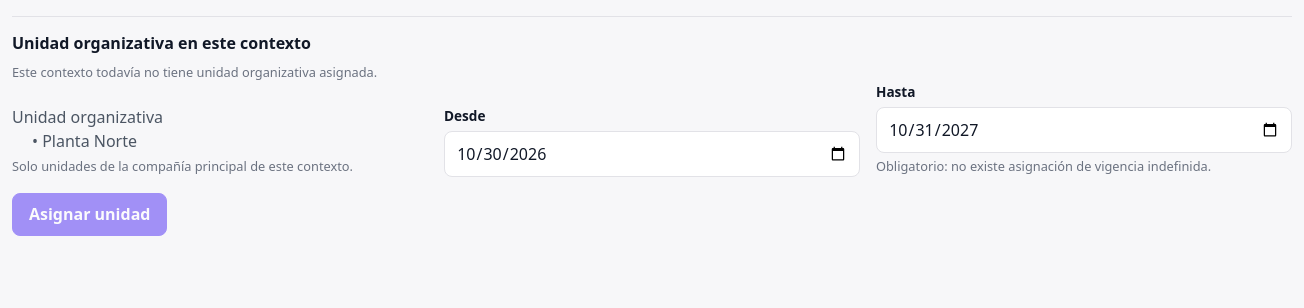
Test: AsignacionUnidadOrganizativa › traduce el rechazo por contención temporal
Click the list item "• Planta Norte": x=84, y=141 [32,130,137,152]
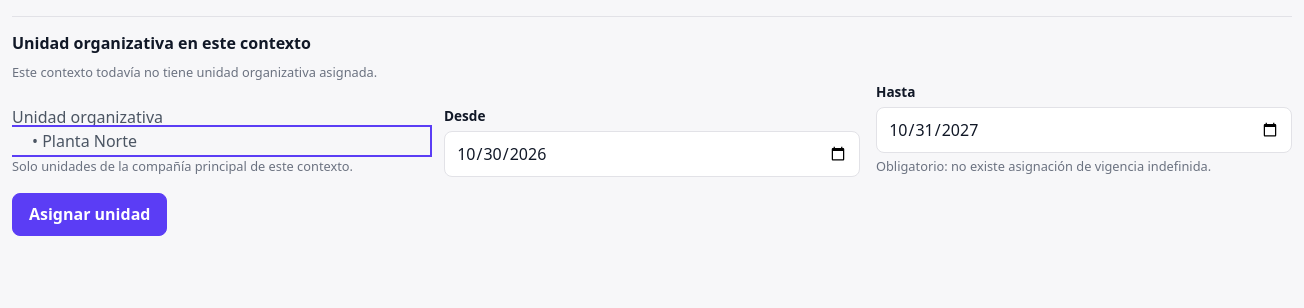
Click the button "Asignar unidad": x=90, y=214 [12,192,167,236]
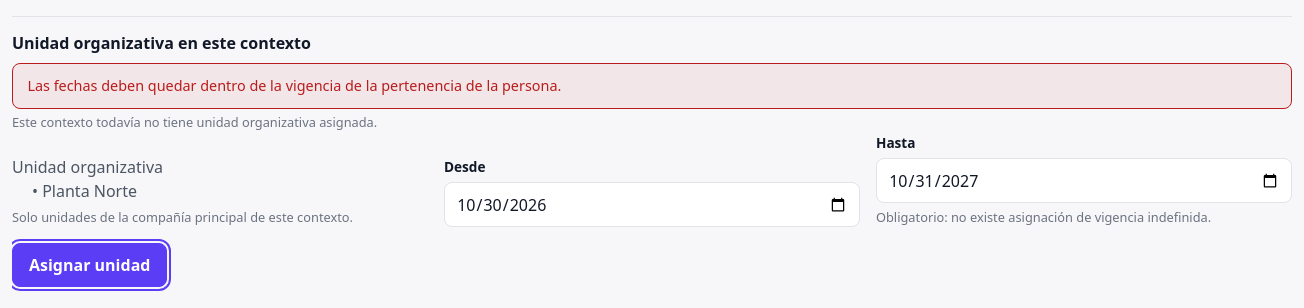
Expected: the message shows "dentro de la vigencia de la pertenencia", [27,76,561,95]
